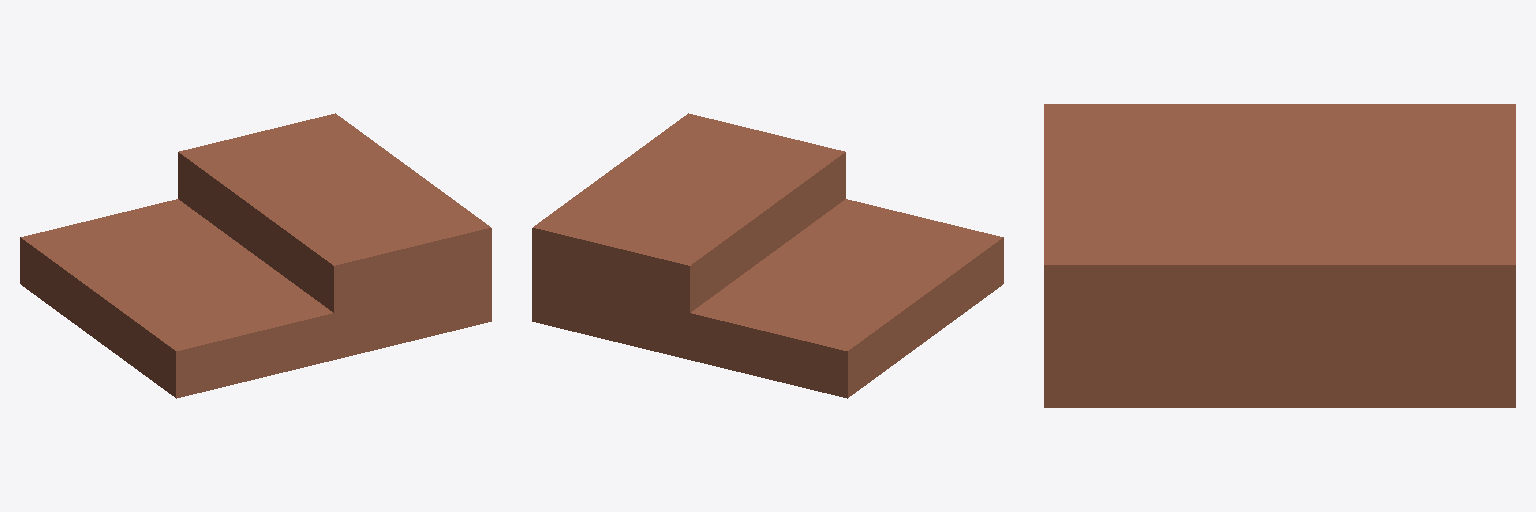
robot.urdf — stair:
<?xml version="0.0" ?>
<robot name="stair">
  <link name="baseLink">
    <contact>
      <lateral_friction value="1.0"/>
      <rolling_friction value="0.0"/>
      <contact_cfm value="0.0"/>
      <contact_erp value="1.0"/>
    </contact>
    <inertial>
      <origin rpy="0 0 0" xyz="0.15 0 0.1"/>
       <mass value="1.0"/>
       <inertia ixx="1" ixy="0" ixz="0" iyy="1" iyz="0" izz="1"/>
    </inertial>
    <visual>
      <origin rpy="0 0 0" xyz="0.175 0 0.05"/>
      <geometry>
        <box size="0.35 0.6 0.1"/>
      </geometry>
       <material name="brown">
           <color rgba="0.68 0.45 0.35 0.9"/>
      </material>
    </visual>
  </link>
  <joint name="j0" type="fixed">
      <origin rpy="0 0 0" xyz="0.35 0 0."/>
      <axis rpy="0 0 0" xyz="0 0 1"/>
      <parent link="baseLink"/>
      <child link="secondLink"/>
  </joint>
  <link name="secondLink">
    <contact>
      <lateral_friction value="1.0"/>
      <rolling_friction value="0.0"/>
      <contact_cfm value="0.0"/>
      <contact_erp value="1.0"/>
    </contact>
    <inertial>
      <origin rpy="0 0 0" xyz="0.175 0 0.1"/>
       <mass value="1.0"/>
       <inertia ixx="1" ixy="0" ixz="0" iyy="1" iyz="0" izz="1"/>
    </inertial>
    <visual>
      <origin rpy="0 0 0" xyz="0.175 0 0.1"/>
      <geometry>
        <box size="0.35 0.6 0.2"/>
      </geometry>
       <material name="brown">
           <color rgba="0.68 0.45 0.35 0.9"/>
      </material>
    </visual>
  </link>
</robot>

--- What the picture shows (computed from the rendered views, not written in the file) ---
Views: 3 orthographic renders of the robot side by side, from view 1: azimuth 30°, elevation 25°; view 2: azimuth 150°, elevation 25°; view 3: azimuth 270°, elevation 25°.
Model stair with 2 links and 1 joints (1 fixed), rooted at baseLink, posed every joint at zero.
Visible links, largest first — view 1: secondLink, baseLink; view 2: secondLink, baseLink; view 3: secondLink, baseLink.
Link boxes in pixels (left/top/right/bottom): secondLink: left=178, top=113, right=491, bottom=359; baseLink: left=20, top=199, right=333, bottom=398; secondLink: left=532, top=113, right=845, bottom=359; baseLink: left=690, top=199, right=1003, bottom=398; secondLink: left=1044, top=149, right=1515, bottom=407; baseLink: left=1044, top=104, right=1515, bottom=148.
Bounding box of the posed robot: 0.7 × 0.6 × 0.2 m (x, y, z).
Geometry: primitives only (box / cylinder / sphere), no mesh files.